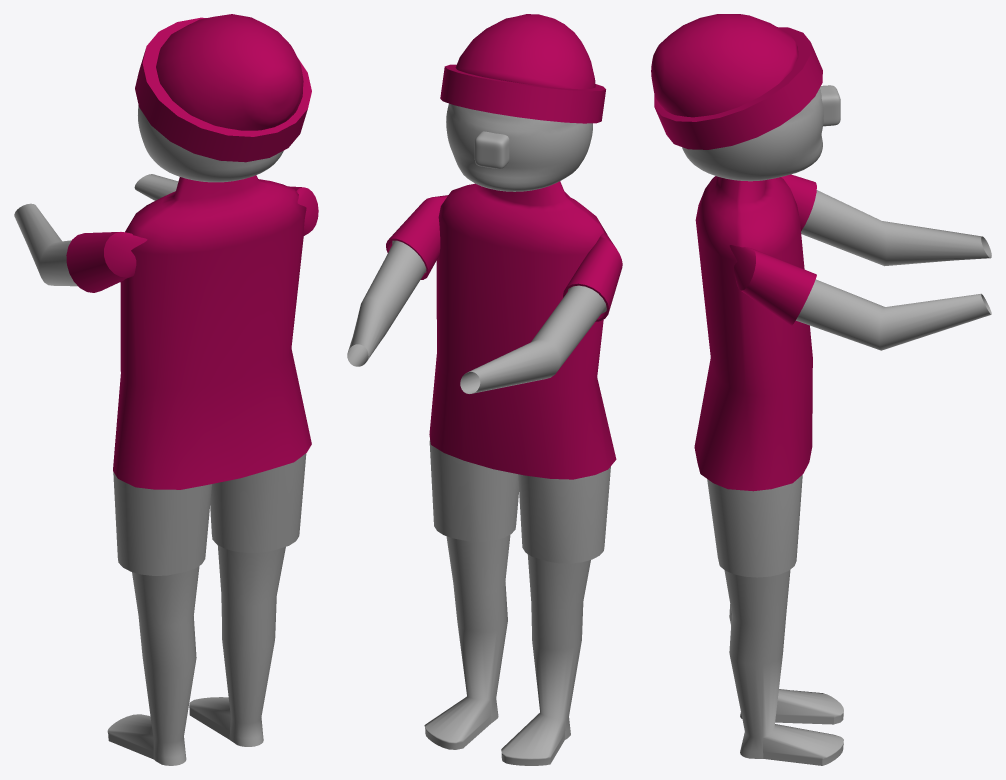
Rendered from Character2.fbx.
3 views of the same model, side by side, from view 1: azimuth 30°, elevation 25°; view 2: azimuth 150°, elevation 25°; view 3: azimuth 270°, elevation 25° (orthographic). The views are drawn at different scales.
Visible parts, largest first — view 1: pCylinder7; view 2: pCylinder7; view 3: pCylinder7.
Part boxes in pixels (box(x1,y1,x2,y2)): pCylinder7: box(14, 14, 318, 765); pCylinder7: box(347, 14, 622, 765); pCylinder7: box(651, 14, 991, 765).
Bounding box in the file's own units: 0.6029 × 1.8 × 0.7728.
